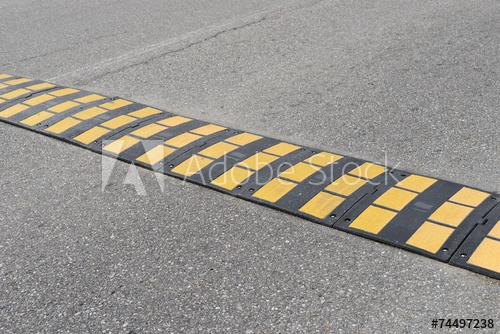Bump: (0, 69, 499, 279)
